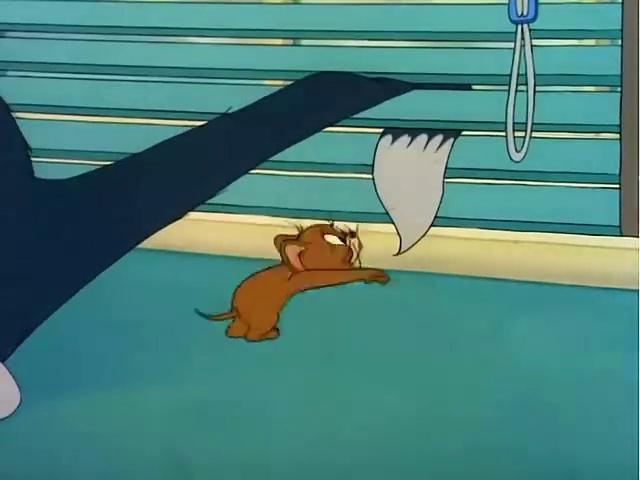jerry: (222, 194, 385, 381)
